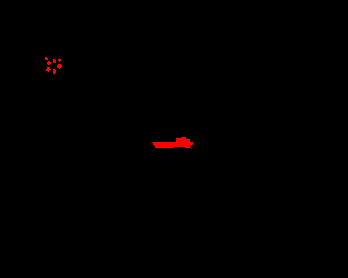Target: (152, 137, 193, 148), (57, 64, 62, 69), (46, 67, 51, 72), (47, 61, 51, 65), (53, 69, 56, 74), (53, 59, 56, 63), (45, 57, 48, 60), (58, 59, 61, 62)
